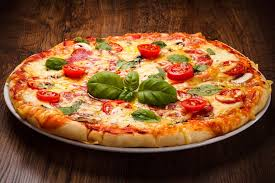pizza: (4, 24, 263, 164)
